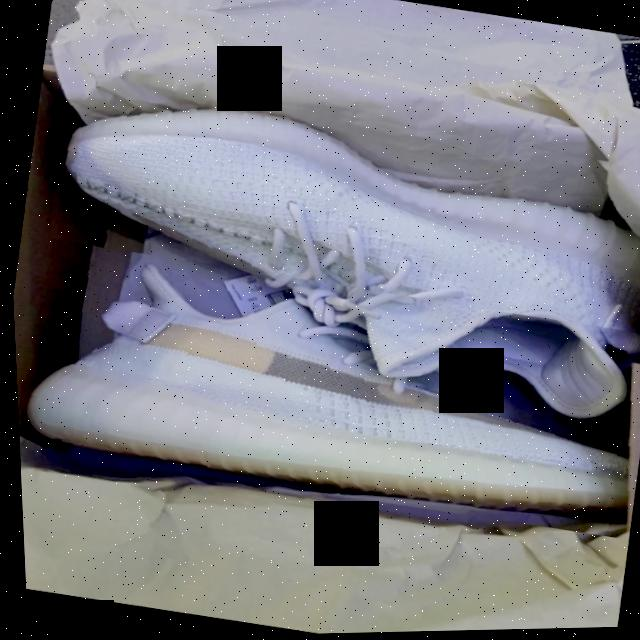shoe: (13, 55, 640, 436), (8, 224, 640, 553)
